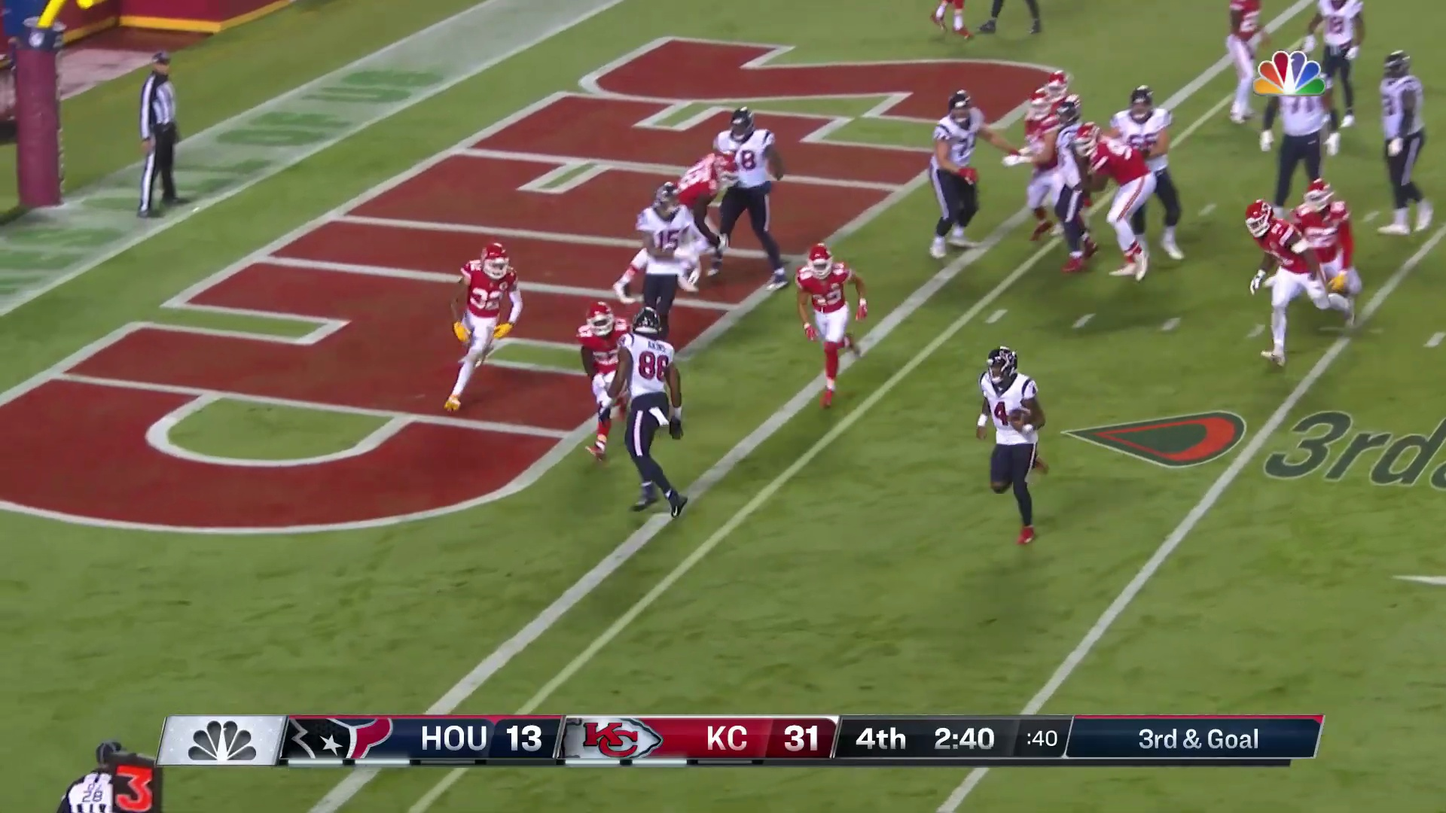Player: (621, 297, 683, 513), (978, 342, 1044, 543), (715, 106, 782, 279), (1246, 199, 1316, 362), (796, 243, 866, 406), (633, 181, 705, 339), (1113, 85, 1178, 256), (1016, 71, 1082, 239), (654, 151, 724, 291), (1295, 179, 1360, 323), (1381, 50, 1430, 233), (1097, 123, 1154, 278), (931, 90, 984, 256), (1273, 50, 1329, 198), (457, 242, 521, 362), (1052, 121, 1102, 270), (1318, 0, 1363, 127), (1227, 1, 1262, 122)
